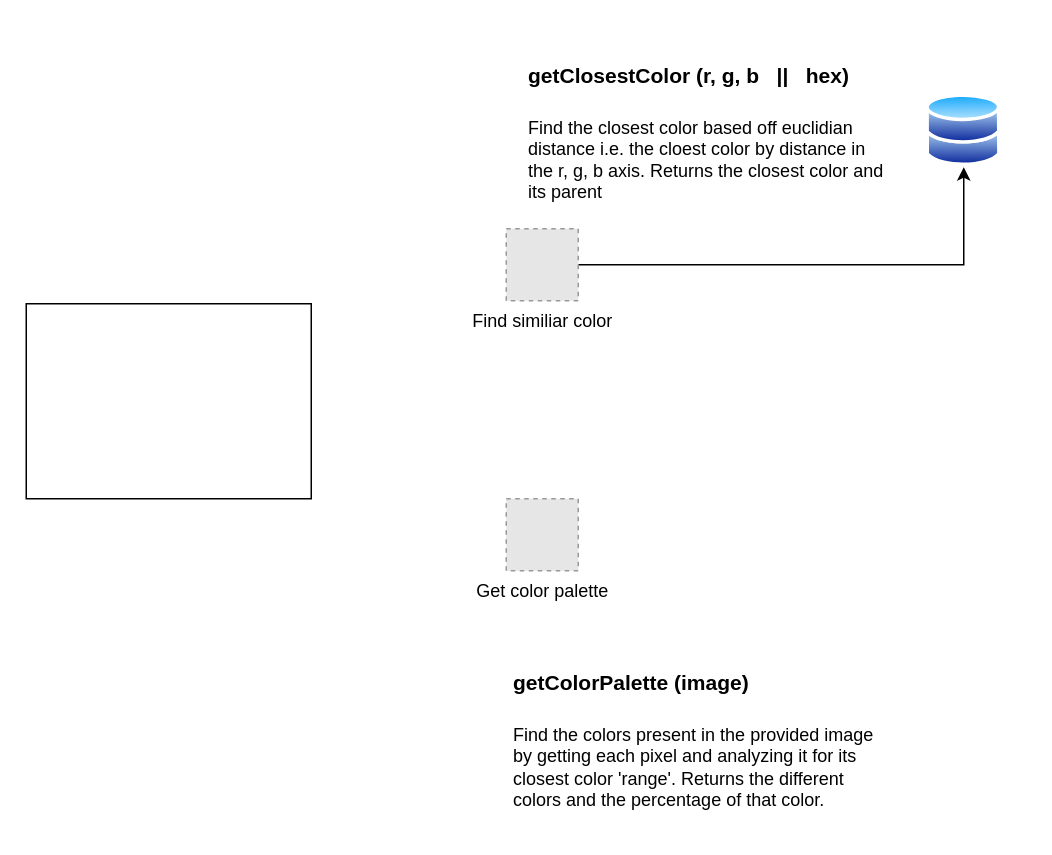
Some shapes in this 1052 by 855 pixel diagram are drawn without their labels. Grey dashed boxes stand in for pictures. The box of each missing label's shape, as (x1, y1, x2, y2) in pixels:
color palette db: (926, 93, 1000, 166)
Image Analysis: (25, 302, 311, 499)
